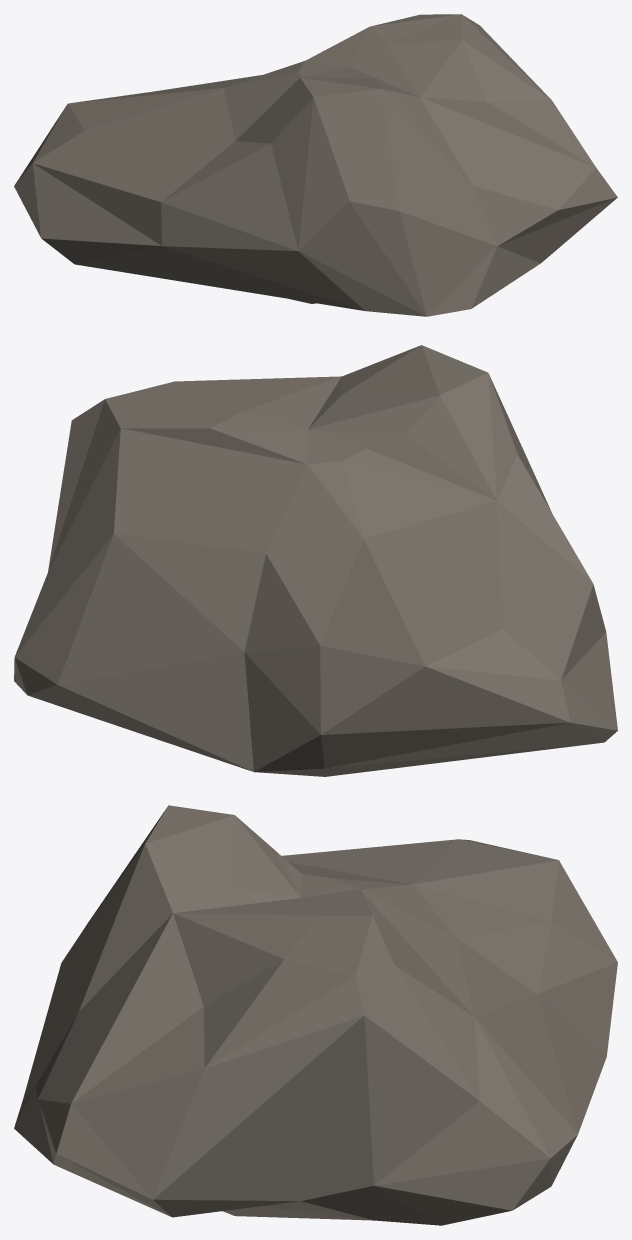
The model's file is SM_Env_Rock_01.glb.
3 renders of one model, top to bottom at view 1: azimuth 30°, elevation 25°; view 2: azimuth 150°, elevation 25°; view 3: azimuth 270°, elevation 25°, orthographic. The views are drawn at different scales.
Parts seen in each view (by area): view 1: SM_Env_Rock_01; view 2: SM_Env_Rock_01; view 3: SM_Env_Rock_01.
Boxes of the visible parts, x1,y1,x2,y2 form: SM_Env_Rock_01: (14,14,617,316); SM_Env_Rock_01: (14,345,617,776); SM_Env_Rock_01: (14,805,617,1225).
Bounding box in the file's own units: 0.022 × 0.0105 × 0.0183.
Materials: 1 (1 with a texture image).
